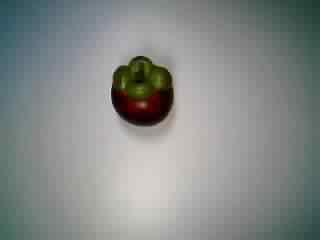mangosteen: (104, 55, 178, 127)
